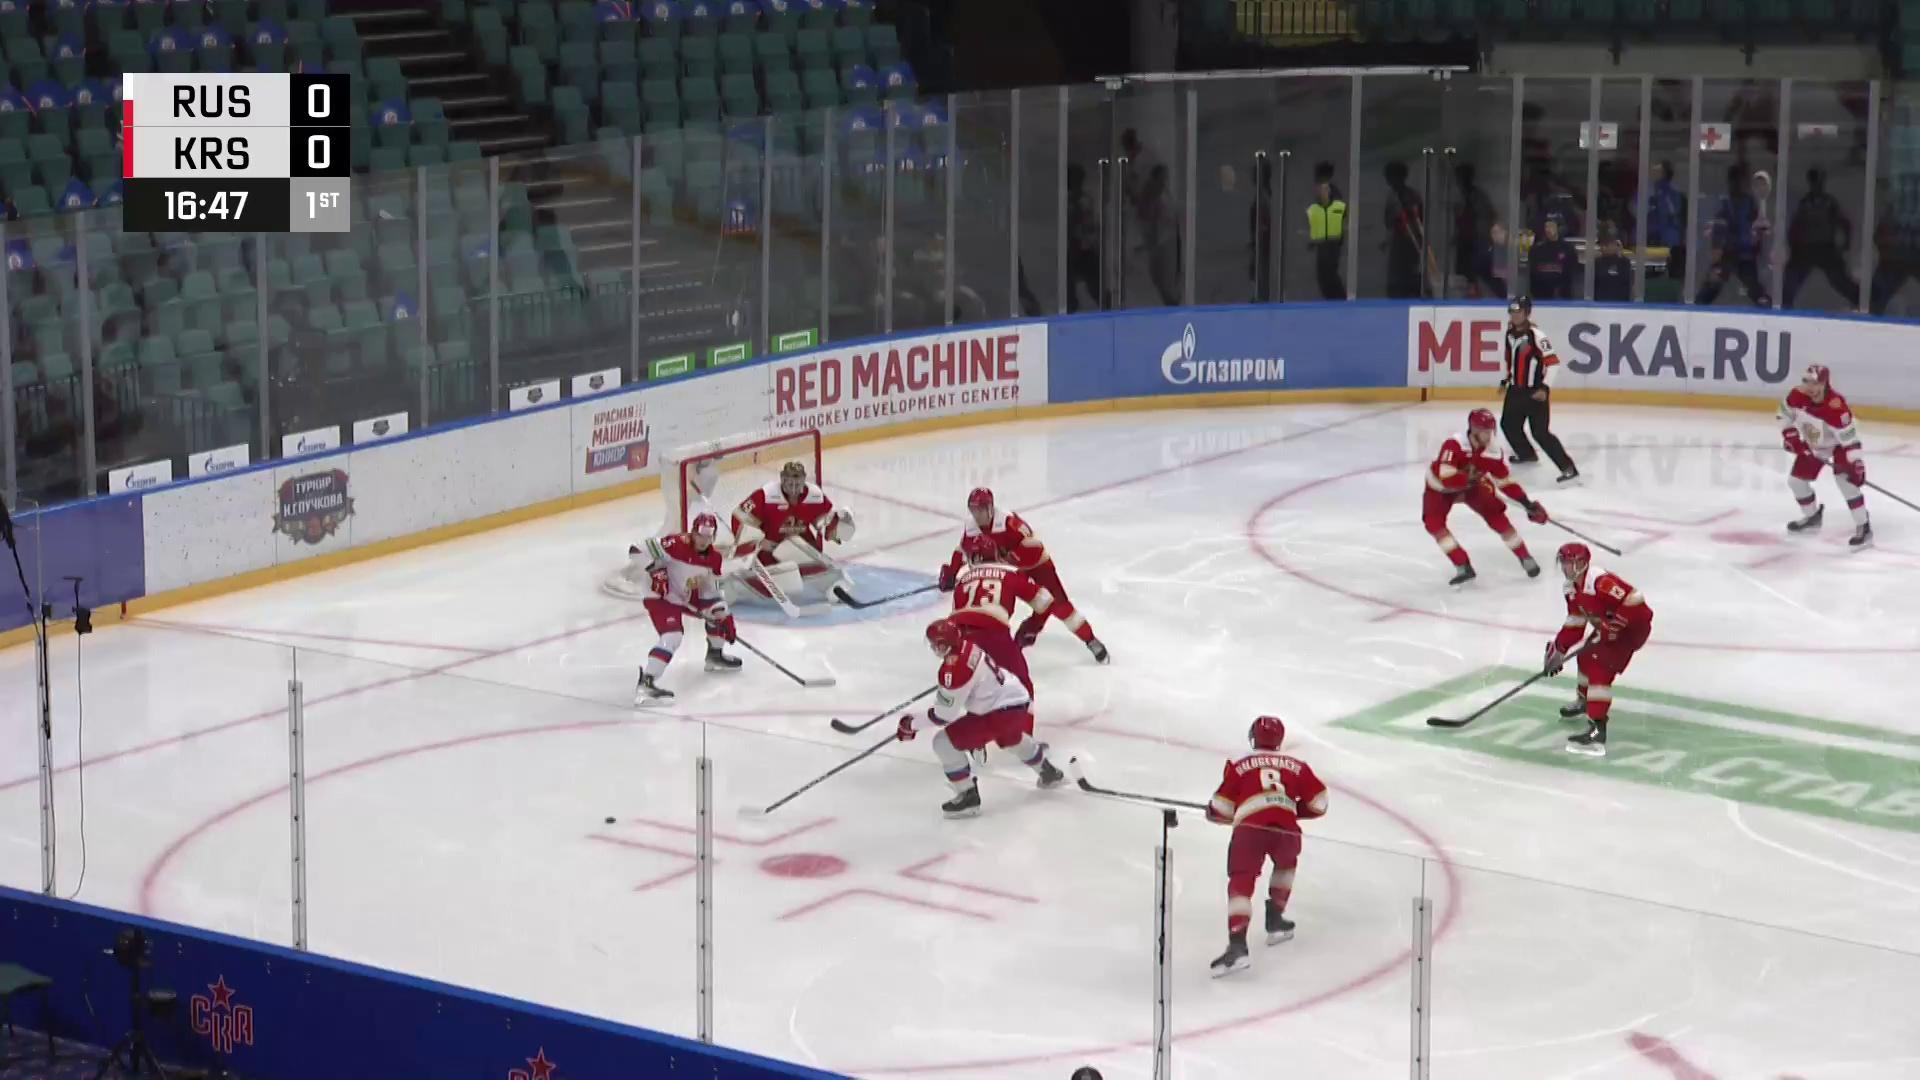ball: (603, 815, 617, 825)
